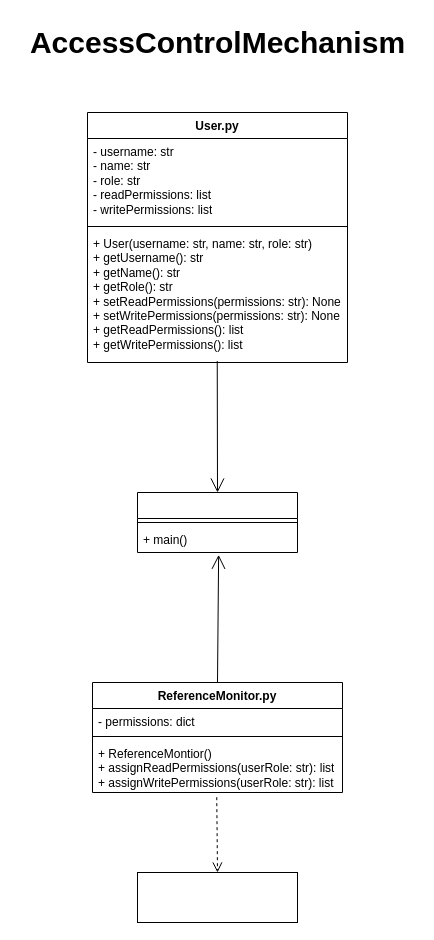
Image size: 434x940. Some labels were removed from this diagram. Here are the shapes that lost their labels. From the top down, the box of each, then its label:
(136, 492, 298, 552): main.py
(136, 872, 298, 922): AccessControlMatrix.csv
